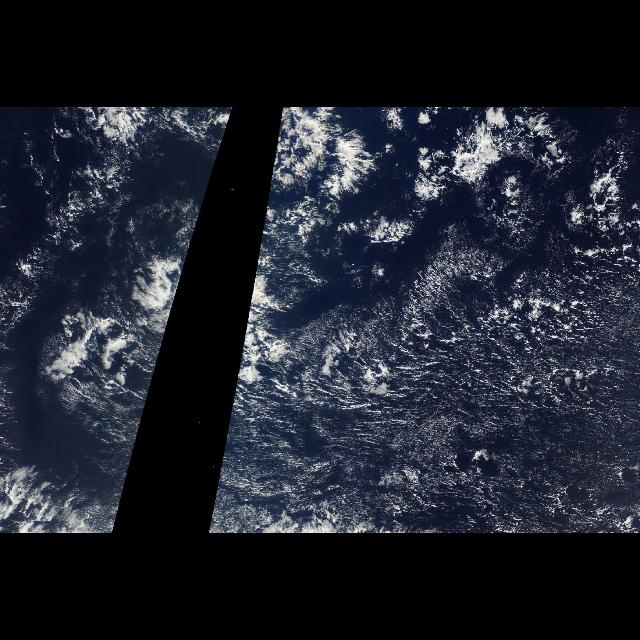Gravel: (272, 177, 630, 411)
Sugar: (210, 322, 638, 532), (87, 407, 145, 509)
